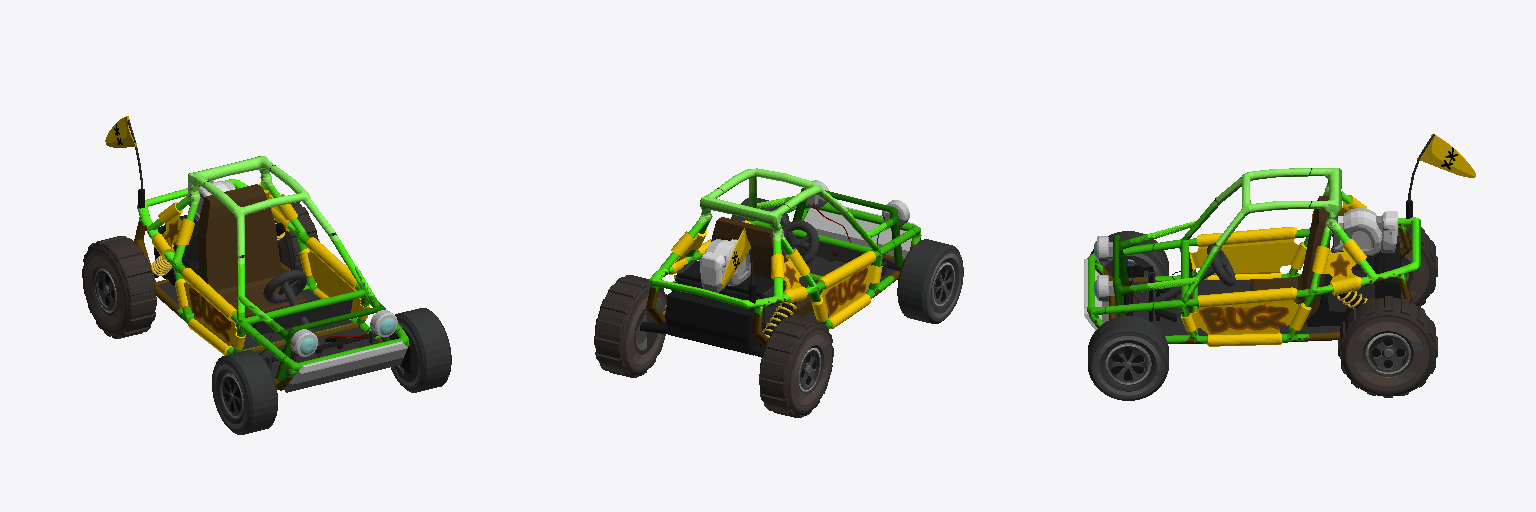
The picture shows the model from 3 angles: view 1: azimuth 30°, elevation 25°; view 2: azimuth 150°, elevation 25°; view 3: azimuth 270°, elevation 25°; orthographic projection.
Visible parts, largest first — view 1: HCR2_Buggy_Details, HCR2_Buggy_Body, HCR2_Buggy_Seat, HCR2_Buggy_RR_Wheel, HCR2_Buggy_FR_Wheel, HCR2_Buggy_FL_Wheel, HCR2_Buggy_Chassis, HCR2_Buggy_Body_Front, HCR2_Buggy_Lights, HCR2_Buggy_Engine, HCR2_Buggy_RL_Wheel, HCR2_Buggy_Steer (+1 smaller); view 2: HCR2_Buggy_Body, HCR2_Buggy_Details, HCR2_Buggy_Engine, HCR2_Buggy_RR_Wheel, HCR2_Buggy_RL_Wheel, HCR2_Buggy_FR_Wheel, HCR2_Buggy_Seat, HCR2_Buggy_Body_Front, HCR2_Buggy_Steer, HCR2_Buggy_Flag, HCR2_Buggy_Susp, HCR2_Buggy_Chassis (+1 smaller); view 3: HCR2_Buggy_Details, HCR2_Buggy_Body, HCR2_Buggy_RL_Wheel, HCR2_Buggy_FL_Wheel, HCR2_Buggy_Engine, HCR2_Buggy_Chassis, HCR2_Buggy_Seat, HCR2_Buggy_Body_Front, HCR2_Buggy_RR_Wheel, HCR2_Buggy_Flag, HCR2_Buggy_FR_Wheel, HCR2_Buggy_Lights (+1 smaller).
Boxes of the visible parts, box(x1,y1,x2,y2) form: HCR2_Buggy_Details: box(138, 182, 407, 392); HCR2_Buggy_Body: box(134, 156, 409, 390); HCR2_Buggy_Seat: box(197, 184, 306, 326); HCR2_Buggy_RR_Wheel: box(82, 236, 156, 338); HCR2_Buggy_FR_Wheel: box(212, 350, 277, 434); HCR2_Buggy_FL_Wheel: box(389, 308, 451, 392); HCR2_Buggy_Chassis: box(158, 270, 377, 376); HCR2_Buggy_Body_Front: box(238, 265, 389, 380); HCR2_Buggy_Lights: box(290, 310, 397, 356); HCR2_Buggy_Engine: box(154, 180, 235, 285); HCR2_Buggy_RL_Wheel: box(275, 202, 319, 280); HCR2_Buggy_Steer: box(263, 270, 306, 303); HCR2_Buggy_Body: box(646, 168, 921, 346); HCR2_Buggy_Details: box(669, 203, 916, 328); HCR2_Buggy_Engine: box(666, 239, 790, 355); HCR2_Buggy_RR_Wheel: box(759, 315, 833, 417); HCR2_Buggy_RL_Wheel: box(594, 275, 666, 377); HCR2_Buggy_FR_Wheel: box(897, 239, 963, 323); HCR2_Buggy_Seat: box(711, 217, 813, 316); HCR2_Buggy_Body_Front: box(757, 188, 902, 265); HCR2_Buggy_Steer: box(782, 220, 818, 263); HCR2_Buggy_Flag: box(721, 228, 753, 286); HCR2_Buggy_Susp: box(640, 258, 900, 357); HCR2_Buggy_Chassis: box(799, 256, 895, 319); HCR2_Buggy_Details: box(1084, 195, 1412, 346); HCR2_Buggy_Body: box(1087, 168, 1420, 343); HCR2_Buggy_RL_Wheel: box(1338, 296, 1437, 397); HCR2_Buggy_FL_Wheel: box(1088, 316, 1168, 400); HCR2_Buggy_Engine: box(1307, 208, 1400, 326); HCR2_Buggy_Chassis: box(1115, 279, 1340, 335); HCR2_Buggy_Seat: box(1250, 196, 1330, 324); HCR2_Buggy_Body_Front: box(1113, 221, 1197, 316); HCR2_Buggy_RR_Wheel: box(1397, 225, 1437, 306); HCR2_Buggy_Flag: box(1408, 134, 1475, 201); HCR2_Buggy_FR_Wheel: box(1090, 231, 1168, 276); HCR2_Buggy_Lights: box(1094, 236, 1114, 301).
Size of the model in its own units: 2.21 by 2.02 by 3.71.
3 materials, 2 textured.